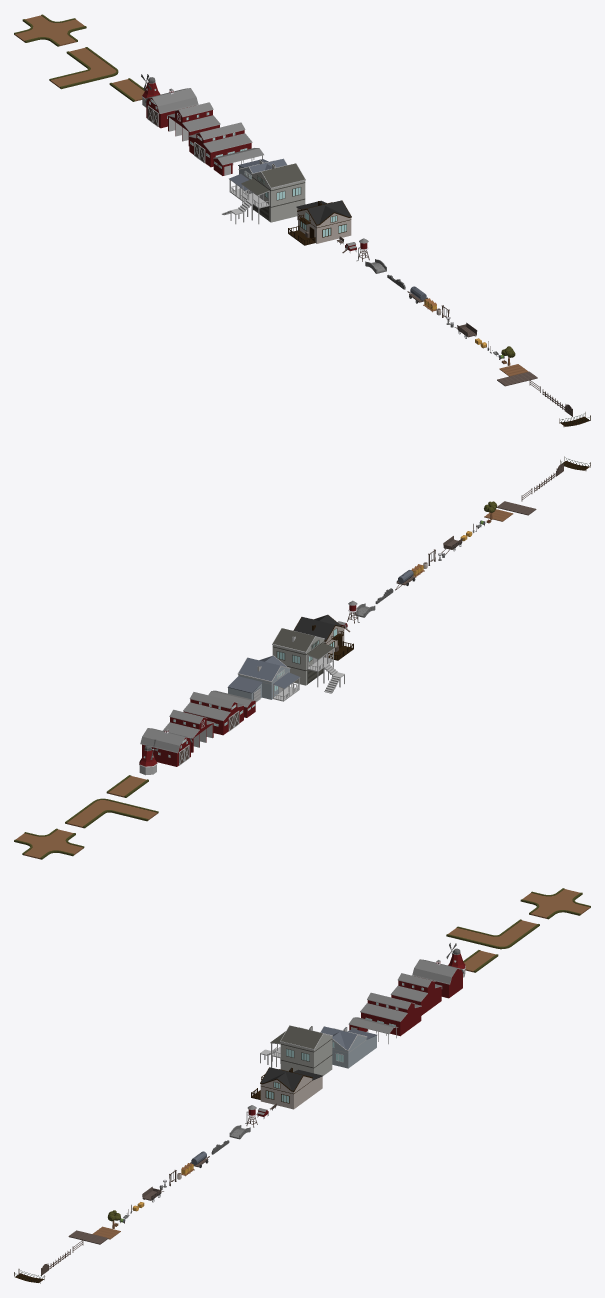
File: farmpack.fbx
The picture shows the model from 3 angles, top to bottom: view 1: azimuth 30°, elevation 25°; view 2: azimuth 150°, elevation 25°; view 3: azimuth 330°, elevation 25°; orthographic projection. The views are drawn at different scales.
Parts seen in each view (by area): view 1: house_02, house_01, barn_01, path_03, path_02, barn_03, barn_04, house_03, barn_02; view 2: house_02, house_03, barn_01, barn_04, path_02, path_03, house_01, barn_03, path_01; view 3: house_02, house_01, barn_01, house_03, path_03, path_02, barn_03, barn_04, barn_02.
Part boxes in pixels (x1,y1,x2,y2): house_02: (222,163,305,224); house_01: (288,200,351,245); barn_01: (188,122,252,167); path_03: (14,14,86,46); path_02: (49,47,118,89); barn_03: (167,102,220,145); barn_04: (144,88,198,128); house_03: (229,158,287,202); barn_02: (213,148,263,175); house_02: (272,628,344,693); house_03: (227,655,300,702); barn_01: (183,692,244,735); barn_04: (140,728,192,766); path_02: (65,798,158,828); path_03: (14,828,84,859); house_01: (293,614,353,660); barn_03: (162,709,214,752); path_01: (106,775,148,797); house_02: (260,1025,332,1075); house_01: (251,1067,322,1109); barn_01: (360,992,421,1036); house_03: (320,1026,376,1068); path_03: (520,888,590,919); path_02: (446,919,539,949); barn_03: (390,973,441,1015); barn_04: (412,959,464,998); barn_02: (348,1017,398,1044).
Bounding box in the file's own units: 14.65 × 155 × 7.01.
